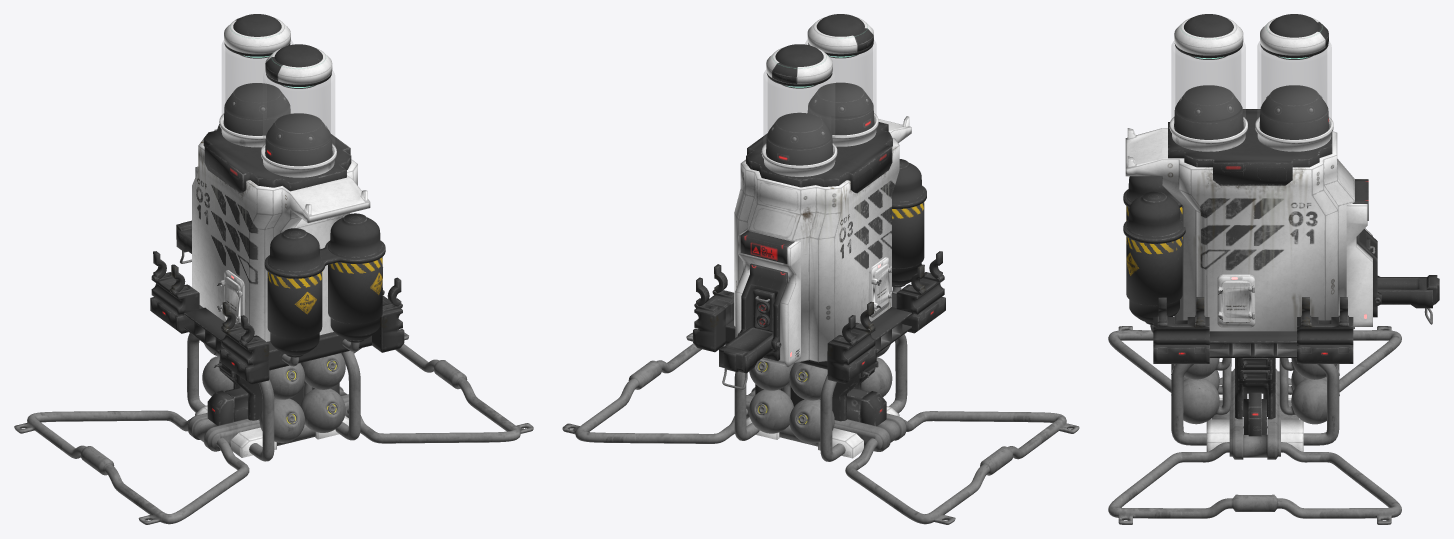
File: oxygen_station.glb
3 views of the same model, side by side, from view 1: azimuth 30°, elevation 25°; view 2: azimuth 150°, elevation 25°; view 3: azimuth 270°, elevation 25° (orthographic). The views are drawn at different scales.
Parts seen in each view (by area): view 1: oxxygen.043, oxxygen.044, Glass; view 2: oxxygen.043, oxxygen.044, Glass; view 3: oxxygen.043, oxxygen.044, Glass.
Part boxes in pixels (x1,y1,x2,y2): oxxygen.043: [14, 14, 533, 524]; oxxygen.044: [150, 129, 404, 384]; Glass: [222, 40, 334, 150]; oxxygen.043: [562, 14, 1079, 524]; oxxygen.044: [693, 116, 945, 389]; Glass: [763, 40, 876, 148]; oxxygen.043: [1108, 14, 1401, 524]; oxxygen.044: [1125, 128, 1439, 380]; Glass: [1171, 41, 1331, 123].
Size of the model in its own units: 4.92 by 4.78 by 3.5.
3 materials, 3 textured.
